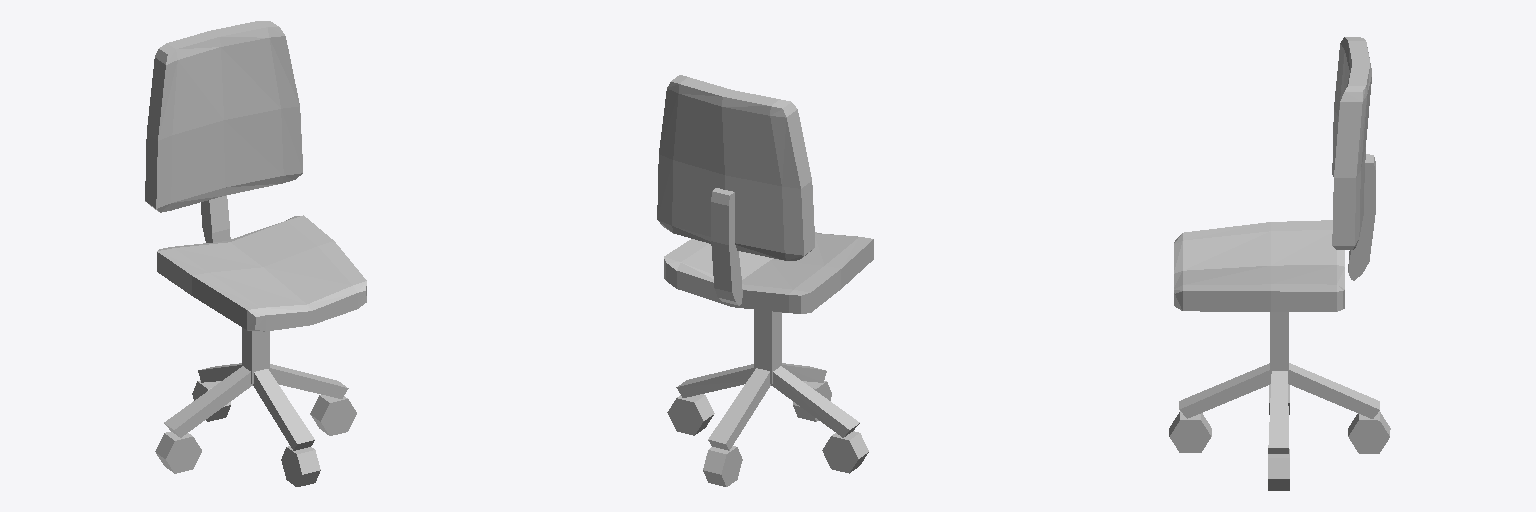
File: EverythingLibrary_Furnishings_Chair.obj
3 views of the same model, side by side, from view 1: azimuth 30°, elevation 25°; view 2: azimuth 150°, elevation 25°; view 3: azimuth 270°, elevation 25° (orthographic).
Visible parts, largest first — view 1: color_Mesh.1210, base.001_Mesh.1209; view 2: color_Mesh.1210, base.001_Mesh.1209; view 3: color_Mesh.1210, base.001_Mesh.1209.
Boxes of the visible parts, x1,y1,x2,y2 form: color_Mesh.1210: [145, 21, 366, 331]; base.001_Mesh.1209: [155, 195, 356, 486]; color_Mesh.1210: [657, 75, 873, 313]; base.001_Mesh.1209: [667, 188, 868, 486]; color_Mesh.1210: [1174, 37, 1371, 311]; base.001_Mesh.1209: [1169, 154, 1390, 490].
Bounding box in the file's own units: 0.4942 × 0.9509 × 0.4942.